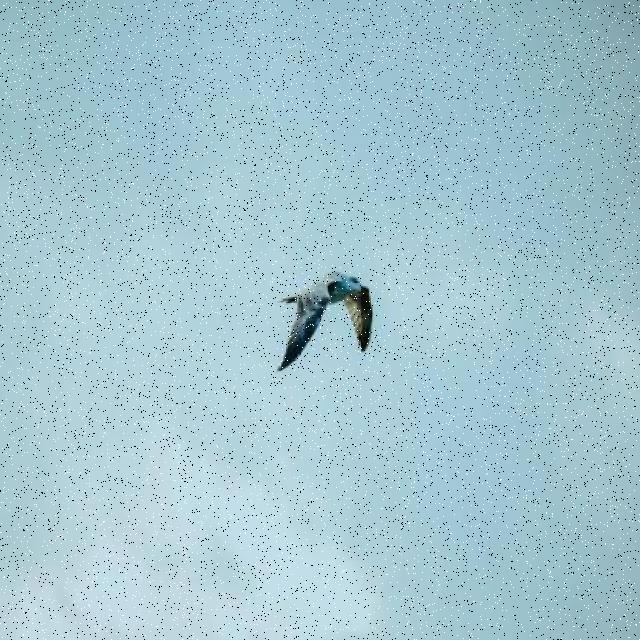bird: (281, 270, 374, 378)
